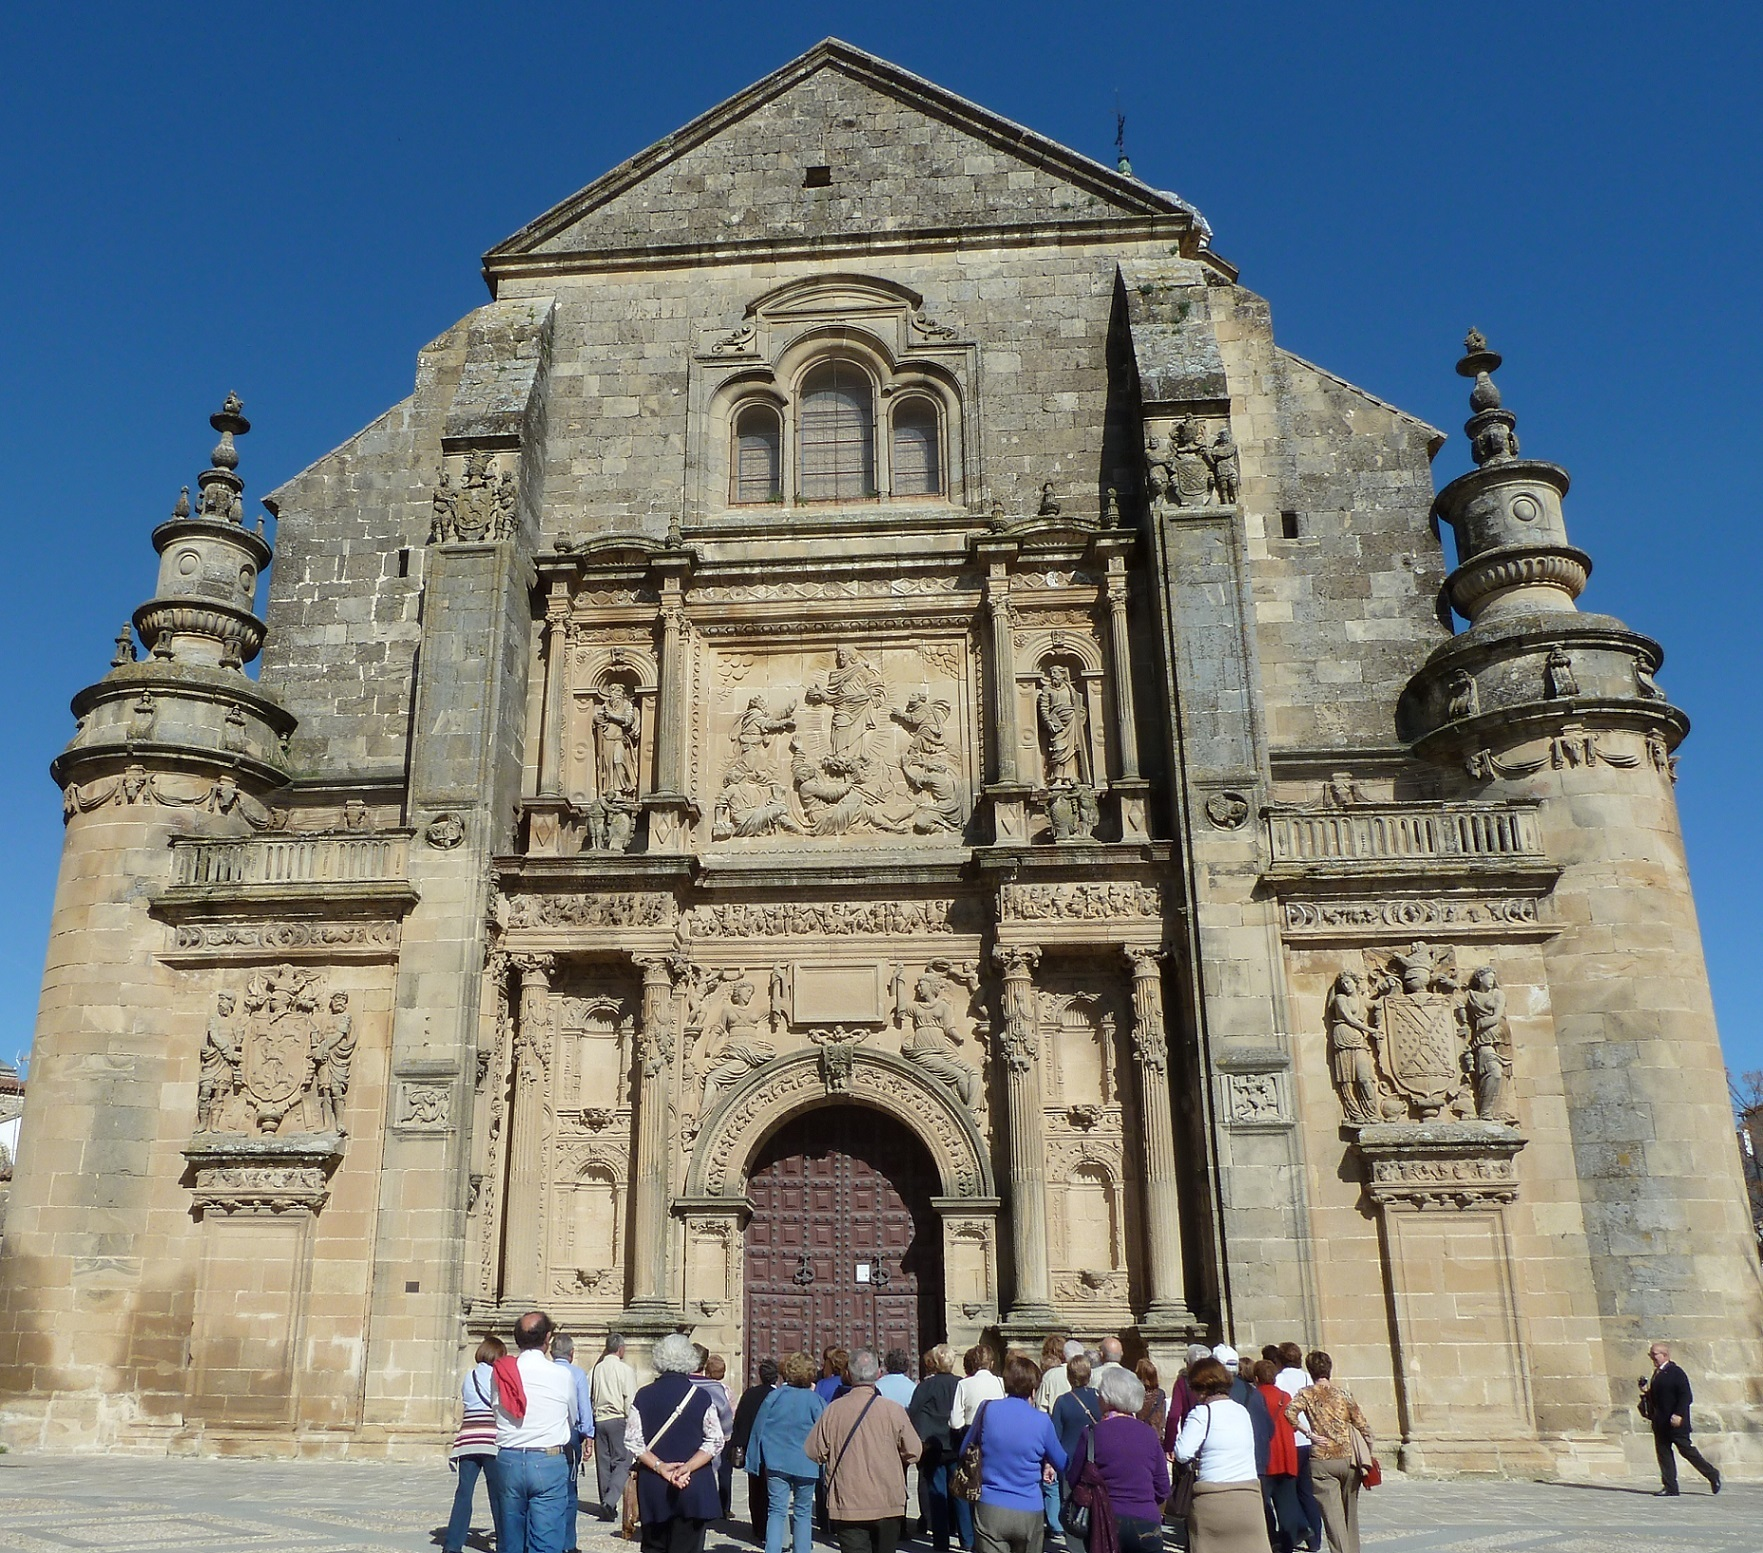arco-medio-punto: (723, 1082, 965, 1255)
fronton: (477, 30, 1193, 270)
fronton-curvo: (744, 268, 928, 319)
